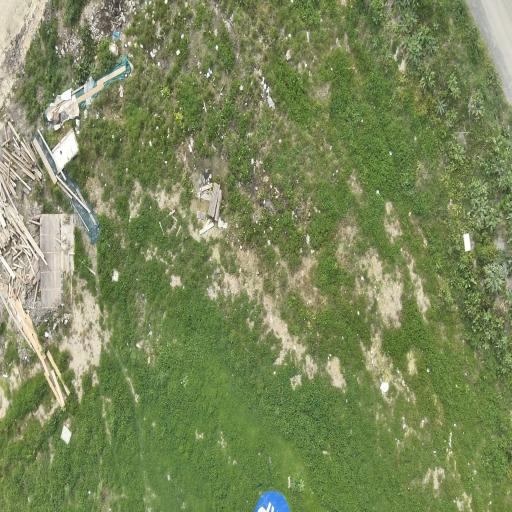UAP: (255, 492, 289, 511)
